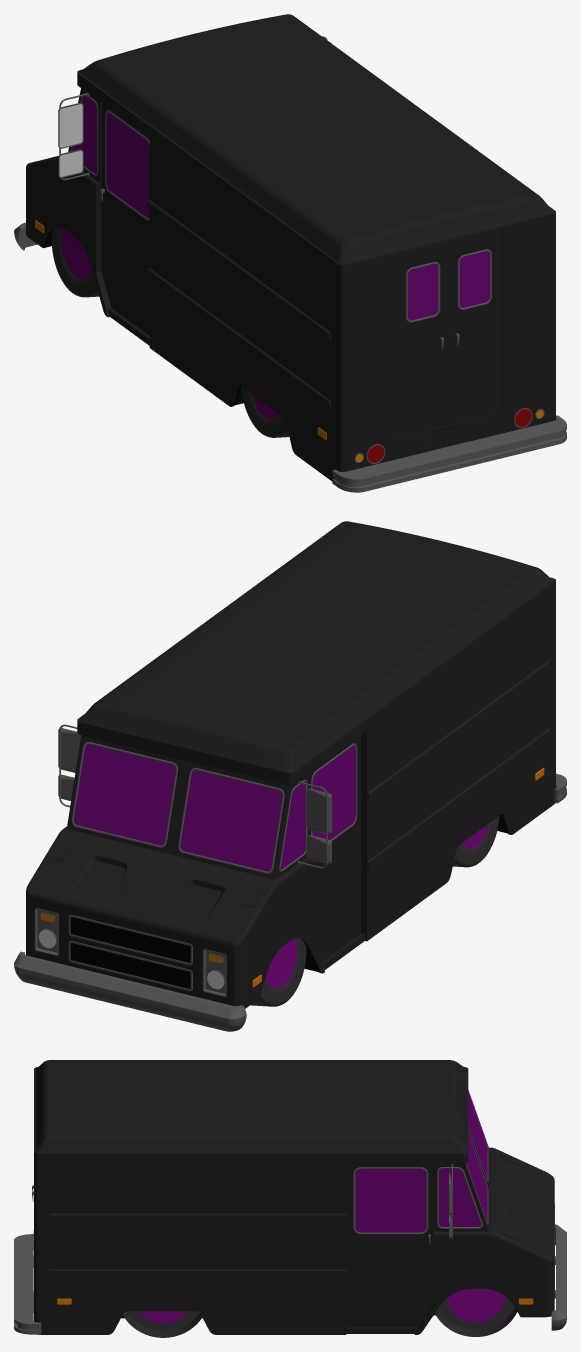
Rendered from Truck_Modell.dae.
3 renders of one model, top to bottom at view 1: azimuth 30°, elevation 25°; view 2: azimuth 150°, elevation 25°; view 3: azimuth 270°, elevation 25°, orthographic. The views are drawn at different scales.
Parts seen in each view (by area): view 1: TRUCK; view 2: TRUCK; view 3: TRUCK.
Part boxes in pixels (x1,y1,x2,y2): TRUCK: (14, 14, 566, 492); TRUCK: (14, 521, 566, 1031); TRUCK: (14, 1060, 566, 1337).
Size of the model in its own units: 1.48 by 3.17 by 1.29.
